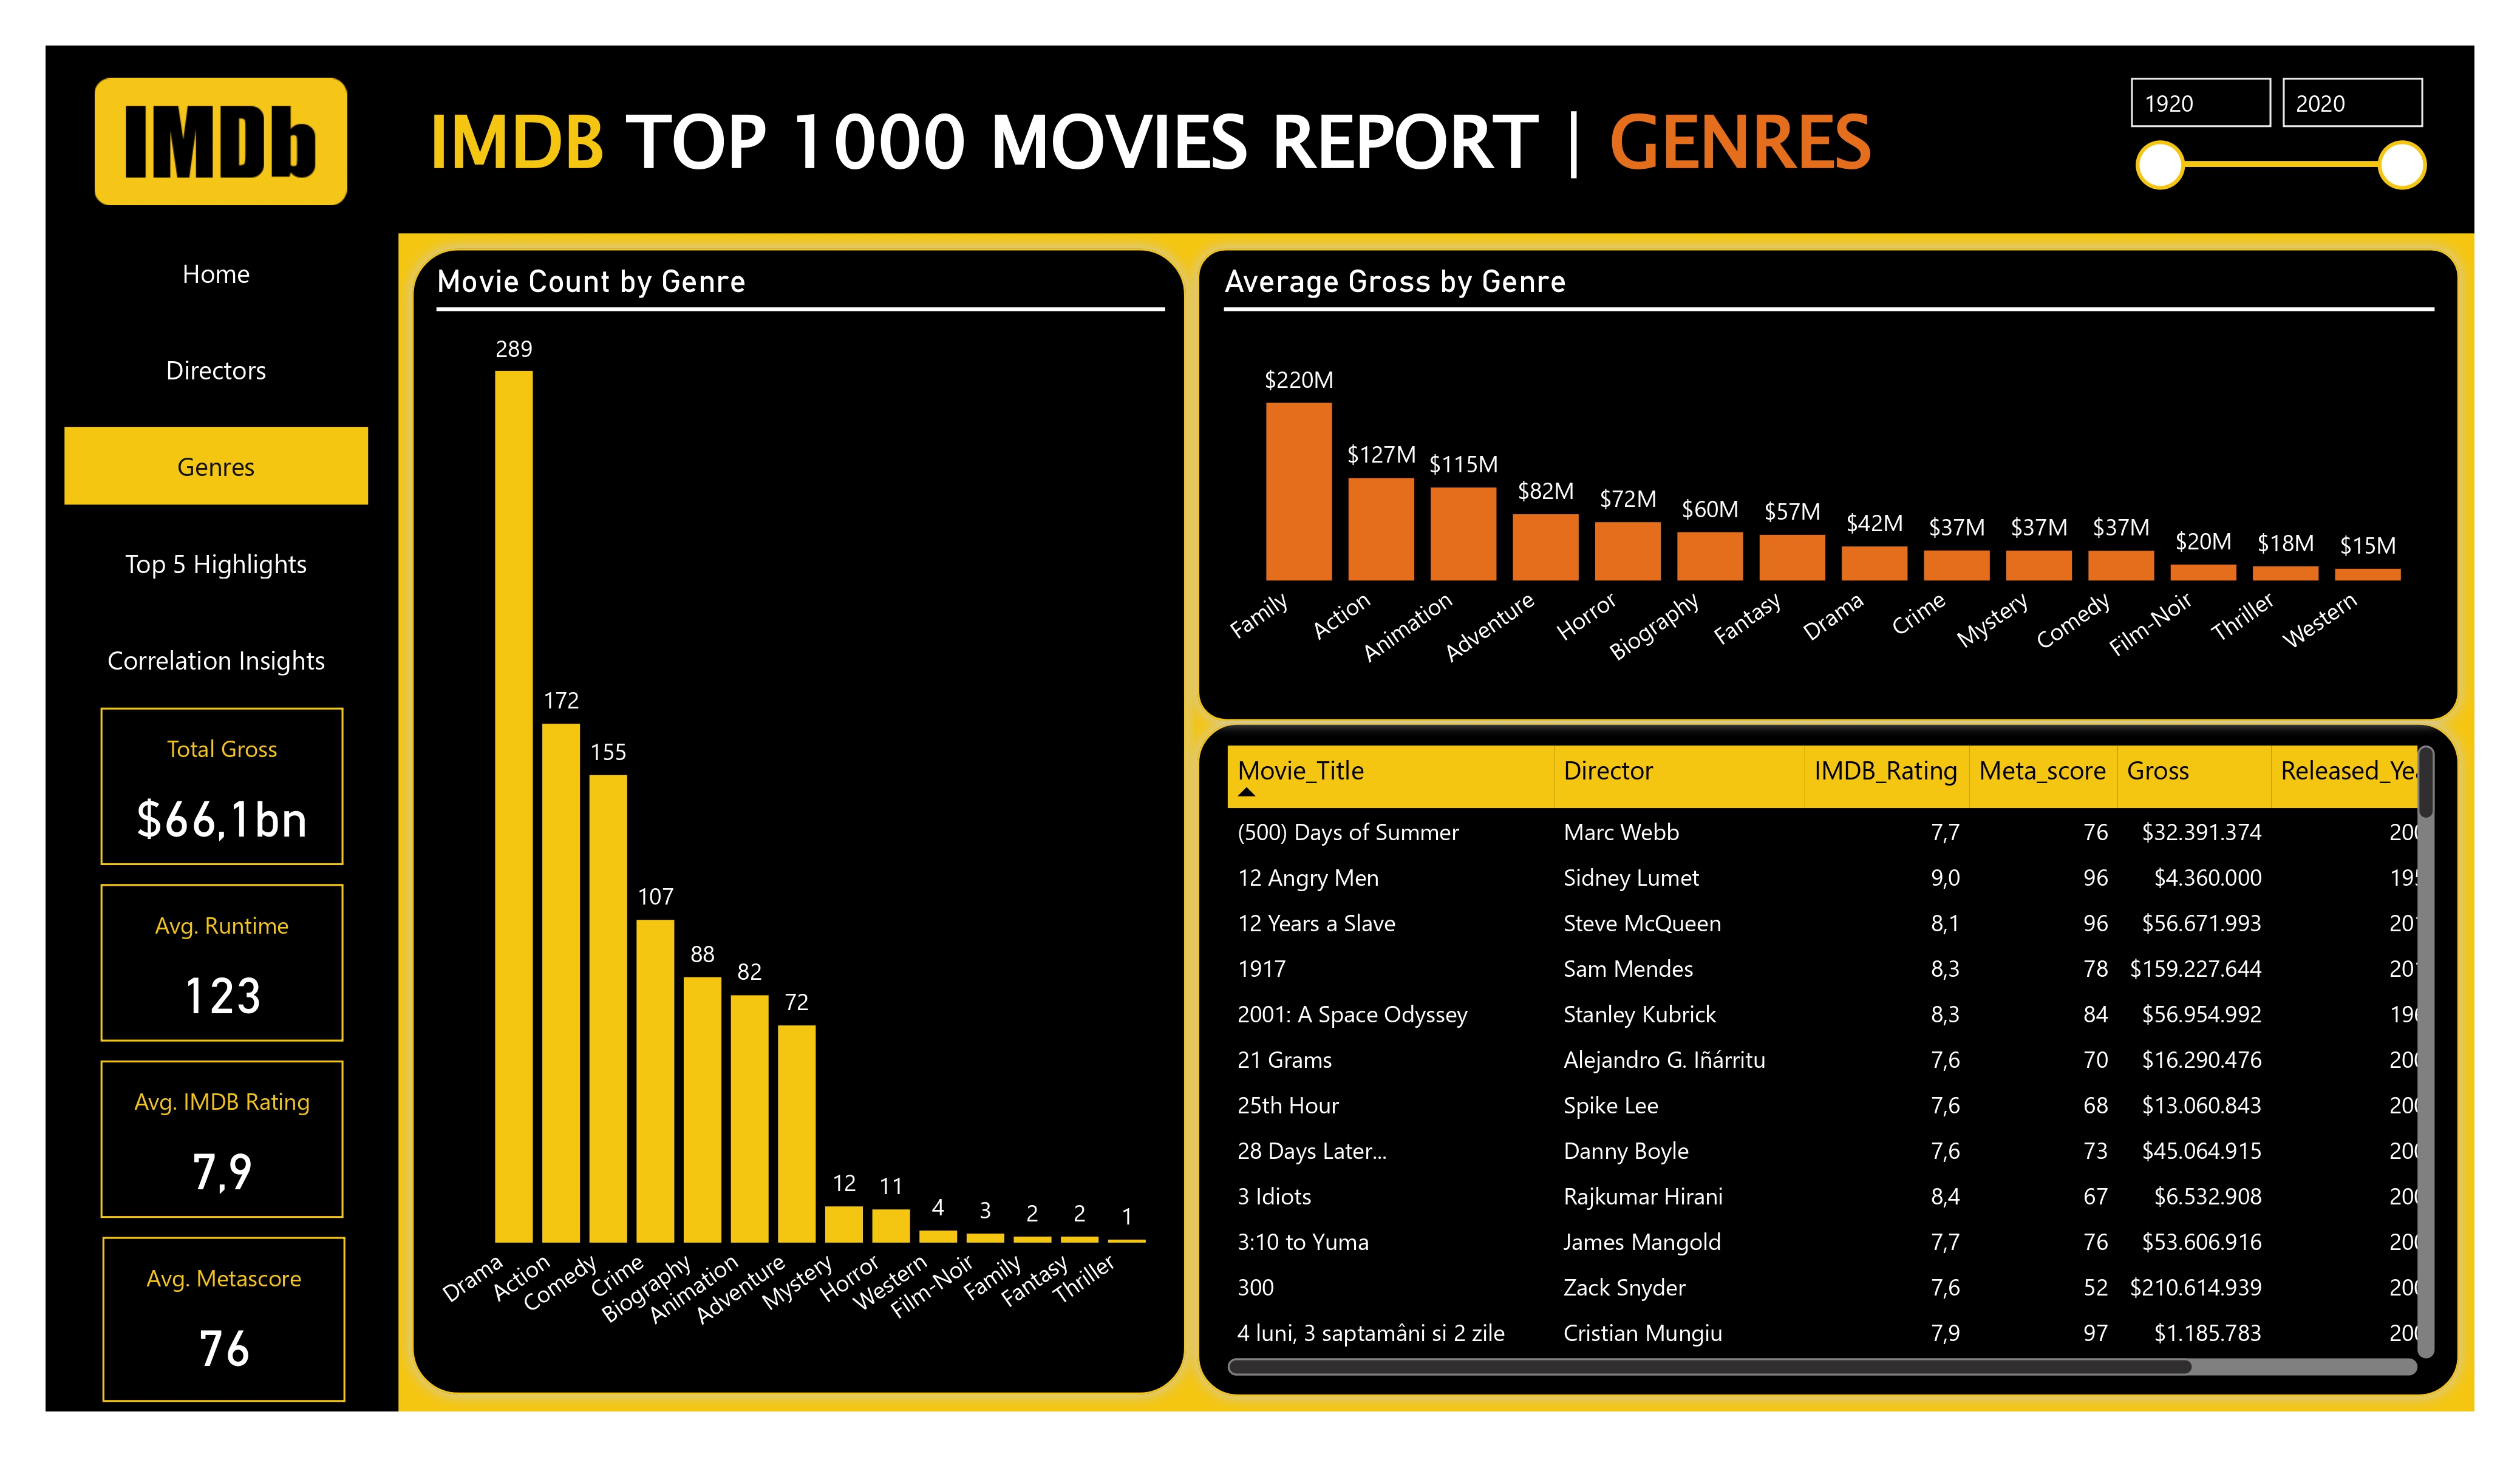

The page's visual inventory and layout, read from the dashboard file:
{"tool":"powerbi","page":{"name":"Genres","canvas":[1280,720],"ordinal":2},"visuals":[{"type":"shape","box":[185.3,99.3,424,620],"z":0},{"type":"shape","box":[599,349,681,371],"z":1000},{"type":"shape","box":[185.3,0,1095.1,99.3],"z":2000},{"type":"shape","box":[0,0,186.4,720],"z":3000},{"type":"lineStackedColumnComboChart","fields":{"Category":["Movie_Genre.Genre"],"Y":["_Measures.Movie Count"]},"box":[201.3,114.4,393.7,583.4],"z":4000},{"type":"textbox","box":[196.8,0.9,1083.5,98.4],"z":5000},{"type":"tableEx","fields":{"Values":["IMBD_Top_1000_Movies.Movie_Title","IMBD_Top_1000_Movies.Director","IMBD_Top_1000_Movies.IMDB_Rating","IMBD_Top_1000_Movies.Meta_score","Sum(IMBD_Top_1000_Movies.Gross)","IMBD_Top_1000_Movies.Released_Year","IMBD_Top_1000_Movies.Runtime","IMBD_Top_1000_Movies.Certificate"]},"box":[617.1,364.4,646.4,341.4],"z":6000},{"type":"image","box":[21.3,12.4,142.8,76.3],"z":7000},{"type":"cardVisual","fields":{"Data":["_Measures.Avg. IMDB Rating"]},"box":[24,530,138,93],"z":8000},{"type":"cardVisual","fields":{"Data":["_Measures.Avg. Runtime"]},"box":[24,437,138,93],"z":9000},{"type":"cardVisual","fields":{"Data":["_Measures.Total Gross"]},"box":[24,344,138,93],"z":10000},{"type":"pageNavigator","box":[10,99,160,245],"z":11000},{"type":"shape","box":[599.4,99.3,681,265.1],"z":12000},{"type":"columnChart","title":"Average Gross by Genre","fields":{"Category":["Movie_Genre.Genre"],"Y":["_Measures.Avg. Gross"]},"box":[616.3,114.4,647.3,235],"z":13000},{"type":"cardVisual","fields":{"Data":["_Measures.Avg. Metascore"]},"box":[25,623,138,97],"z":14000},{"type":"slicer","fields":{"Values":["IMBD_Top_1000_Movies.Released_Year"]},"box":[1086,7,177,87],"z":15000}]}

Visuals, with their boxes on the page's 1280x720 design canvas (x1, y1, x2, y2). These are canvas units, not pixel positions in the 2520x1457 screenshot, which may show the page scaled, cropped or inside an application window:
shape: [185, 99, 609, 719]
shape: [599, 349, 1280, 720]
shape: [185, 0, 1280, 99]
shape: [0, 0, 186, 720]
lineStackedColumnComboChart - Movie_Genre.Genre x _Measures.Movie Count: [201, 114, 595, 698]
textbox: [197, 1, 1280, 99]
tableEx - IMBD_Top_1000_Movies.Movie_Title x IMBD_Top_1000_Movies.Director: [617, 364, 1264, 706]
image: [21, 12, 164, 89]
cardVisual - _Measures.Avg. IMDB Rating: [24, 530, 162, 623]
cardVisual - _Measures.Avg. Runtime: [24, 437, 162, 530]
cardVisual - _Measures.Total Gross: [24, 344, 162, 437]
pageNavigator: [10, 99, 170, 344]
shape: [599, 99, 1280, 364]
"Average Gross by Genre" columnChart: [616, 114, 1264, 349]
cardVisual - _Measures.Avg. Metascore: [25, 623, 163, 720]
slicer - IMBD_Top_1000_Movies.Released_Year: [1086, 7, 1263, 94]
